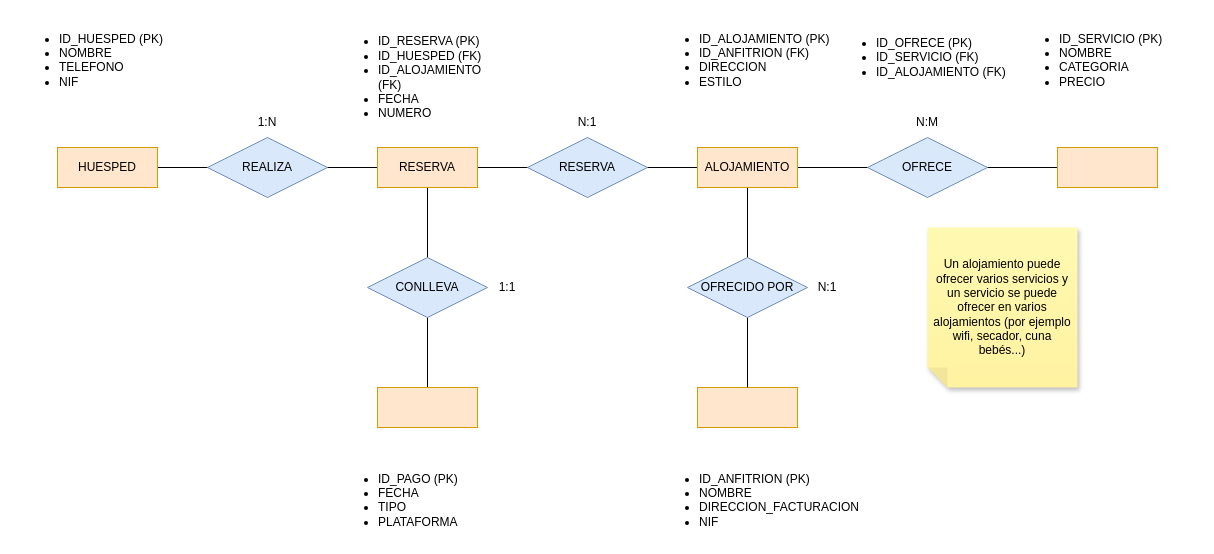
Image size: 1214x554. Some labels were removed from this diagram. Here are the shapes that lost their labels. From the top down, the centre of each, then its label:
At point 1107,167: "SERVICIO".
At point 427,407: "PAGO".
At point 747,407: "ANFITRION".
